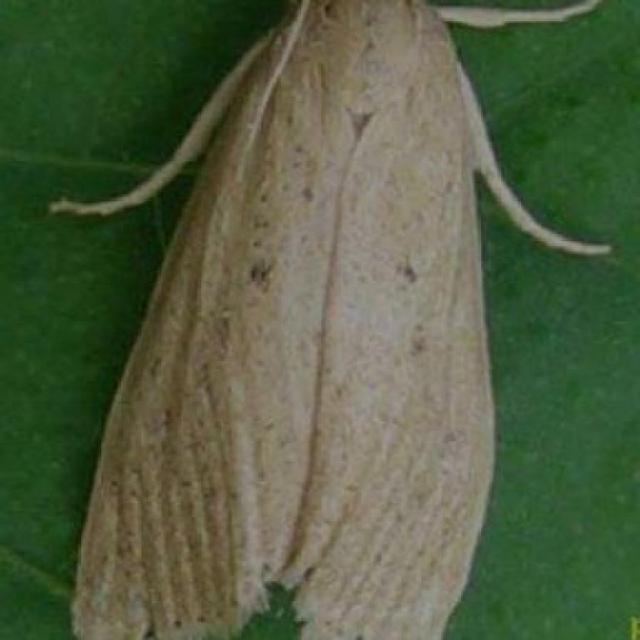stem-borer: (64, 0, 542, 640)
